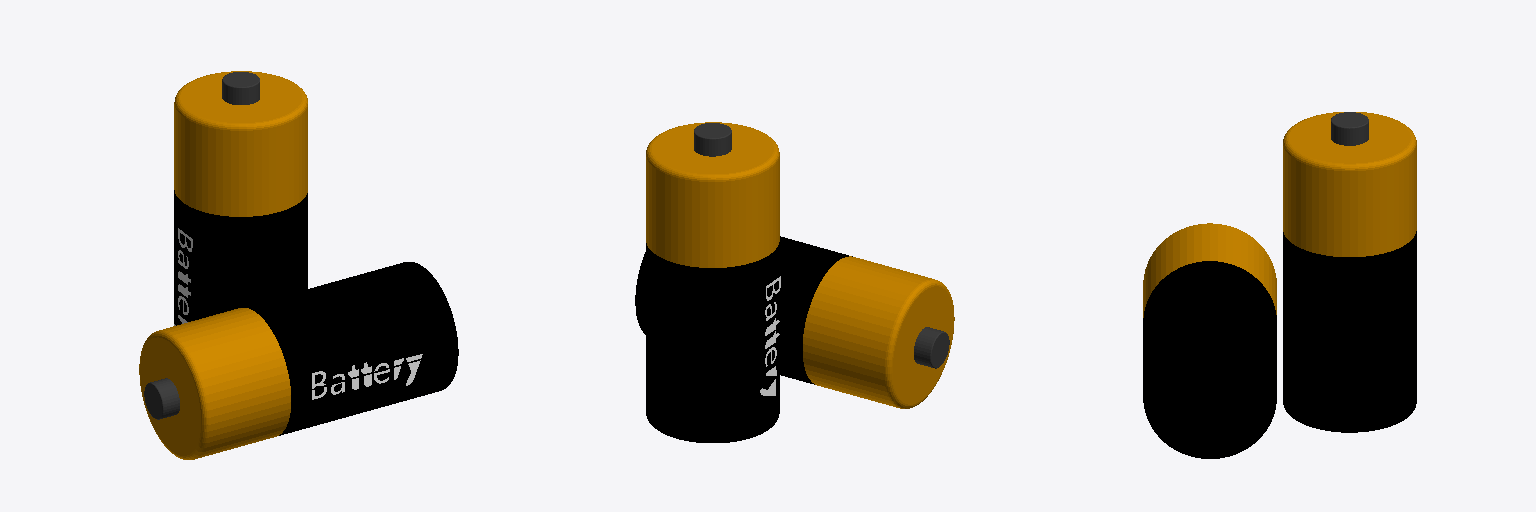
File: Battery.obj
The picture shows the model from 3 angles: view 1: azimuth 30°, elevation 25°; view 2: azimuth 150°, elevation 25°; view 3: azimuth 270°, elevation 25°; orthographic projection.
Visible parts, largest first — view 1: Cylinder_Mesh; view 2: Cylinder_Mesh; view 3: Cylinder_Mesh.
Boxes of the visible parts, box(x1,y1,x2,y2) form: Cylinder_Mesh: box(139, 71, 458, 459); Cylinder_Mesh: box(635, 122, 954, 442); Cylinder_Mesh: box(1143, 112, 1416, 458).
Bounding box in the file's own units: 1.65 × 1.67 × 1.41.